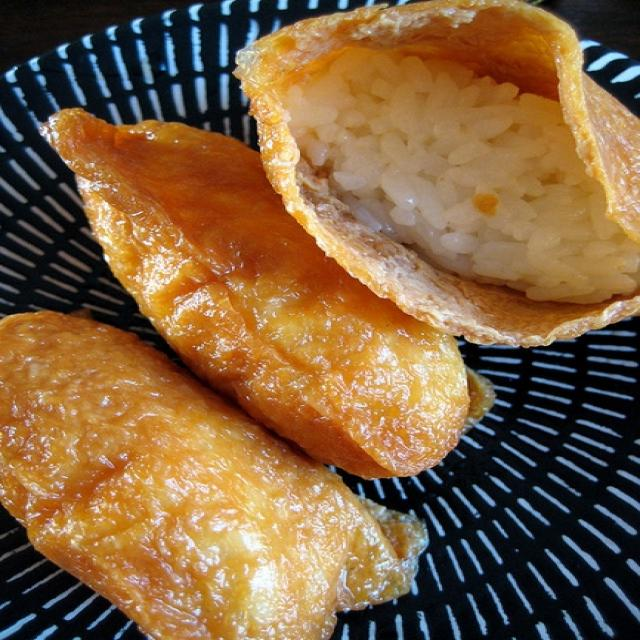寿司卷物: (15, 14, 630, 624)
